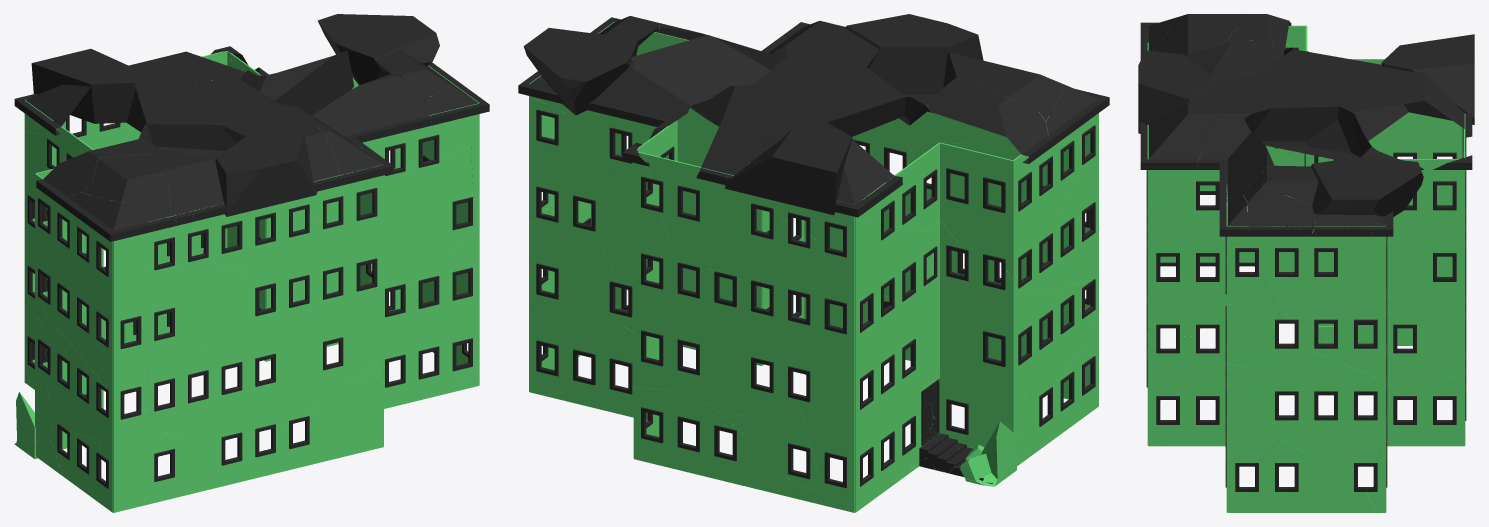
The model's file is big_house_01_d.fbx.
The picture shows the model from 3 angles, left to right: view 1: azimuth 30°, elevation 25°; view 2: azimuth 150°, elevation 25°; view 3: azimuth 270°, elevation 25°; orthographic projection. The views are drawn at different scales.
Parts seen in each view (by area): view 1: house1_W_cell.021, house1_W_cell.041, house1_W_cell.063, house1_W_cell.008, house1_W_cell.053, house1_R_cell.005, house1_W_cell, house1_W_cell.048, house1_R_cell.026, house1_R_cell.023, house1_R_cell.037, house1_R_cell.022 (+37 smaller); view 2: house1_W_cell.018, house1_W_cell.015, house1_W_cell.007, house1_W_cell.017, house1_R_cell.022, house1_W_cell.014, house1_R_cell.037, house1_W_cell.002, house1_R_cell.018, house1_W_cell.029, house1_W_cell.036, house1_R_cell.026 (+37 smaller); view 3: house1_W_cell.001, house1_W_cell.024, house1_W_cell.010, house1_W_cell.074, house1_W_cell.059, house1_R_cell.026, house1_R_cell.022, house1_R_cell.018, house1_W_cell.071, house1_R_cell.037, house1_W_cell.028, house1_R_cell.023 (+43 smaller).
Part boxes in pixels (bbox=[...]): house1_W_cell.021: bbox=[137, 264, 286, 382]; house1_W_cell.041: bbox=[276, 255, 383, 415]; house1_W_cell.063: bbox=[371, 146, 474, 294]; house1_W_cell.008: bbox=[384, 234, 479, 405]; house1_W_cell.053: bbox=[122, 202, 318, 274]; house1_R_cell.005: bbox=[215, 134, 317, 216]; house1_W_cell: bbox=[149, 323, 248, 442]; house1_W_cell.048: bbox=[229, 310, 303, 448]; house1_R_cell.026: bbox=[318, 14, 439, 85]; house1_R_cell.023: bbox=[306, 74, 431, 146]; house1_R_cell.037: bbox=[31, 48, 137, 123]; house1_R_cell.022: bbox=[135, 79, 276, 124]; house1_W_cell.018: bbox=[675, 258, 798, 417]; house1_W_cell.015: bbox=[642, 153, 818, 294]; house1_W_cell.007: bbox=[798, 239, 854, 498]; house1_W_cell.017: bbox=[634, 387, 795, 497]; house1_R_cell.022: bbox=[755, 56, 905, 136]; house1_W_cell.014: bbox=[877, 226, 939, 428]; house1_R_cell.037: bbox=[725, 121, 852, 215]; house1_W_cell.002: bbox=[634, 152, 694, 392]; house1_R_cell.018: bbox=[631, 35, 787, 126]; house1_W_cell.029: bbox=[529, 295, 633, 394]; house1_W_cell.036: bbox=[529, 96, 618, 223]; house1_R_cell.026: bbox=[523, 28, 638, 115]; house1_W_cell.001: bbox=[1387, 163, 1455, 393]; house1_W_cell.024: bbox=[1242, 347, 1385, 480]; house1_W_cell.010: bbox=[1246, 237, 1385, 355]; house1_W_cell.074: bbox=[1148, 202, 1226, 336]; house1_W_cell.059: bbox=[1227, 440, 1377, 512]; house1_R_cell.026: bbox=[1311, 157, 1423, 218]; house1_R_cell.022: bbox=[1255, 49, 1382, 109]; house1_R_cell.018: bbox=[1244, 106, 1371, 159]; house1_W_cell.071: bbox=[1147, 334, 1225, 446]; house1_R_cell.037: bbox=[1381, 34, 1474, 124]; house1_W_cell.028: bbox=[1227, 242, 1288, 367]; house1_R_cell.023: bbox=[1196, 116, 1274, 201].
Size of the model in its own units: 1017 by 728 by 696.
